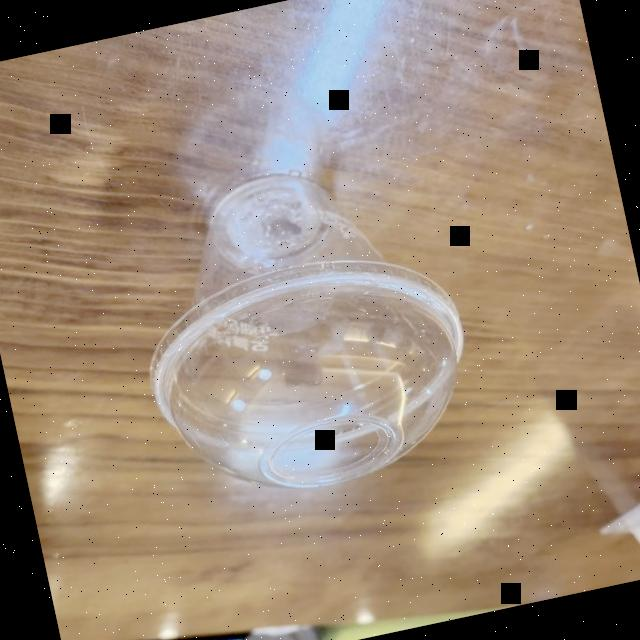plastic_cup_lid: (128, 240, 492, 526)
